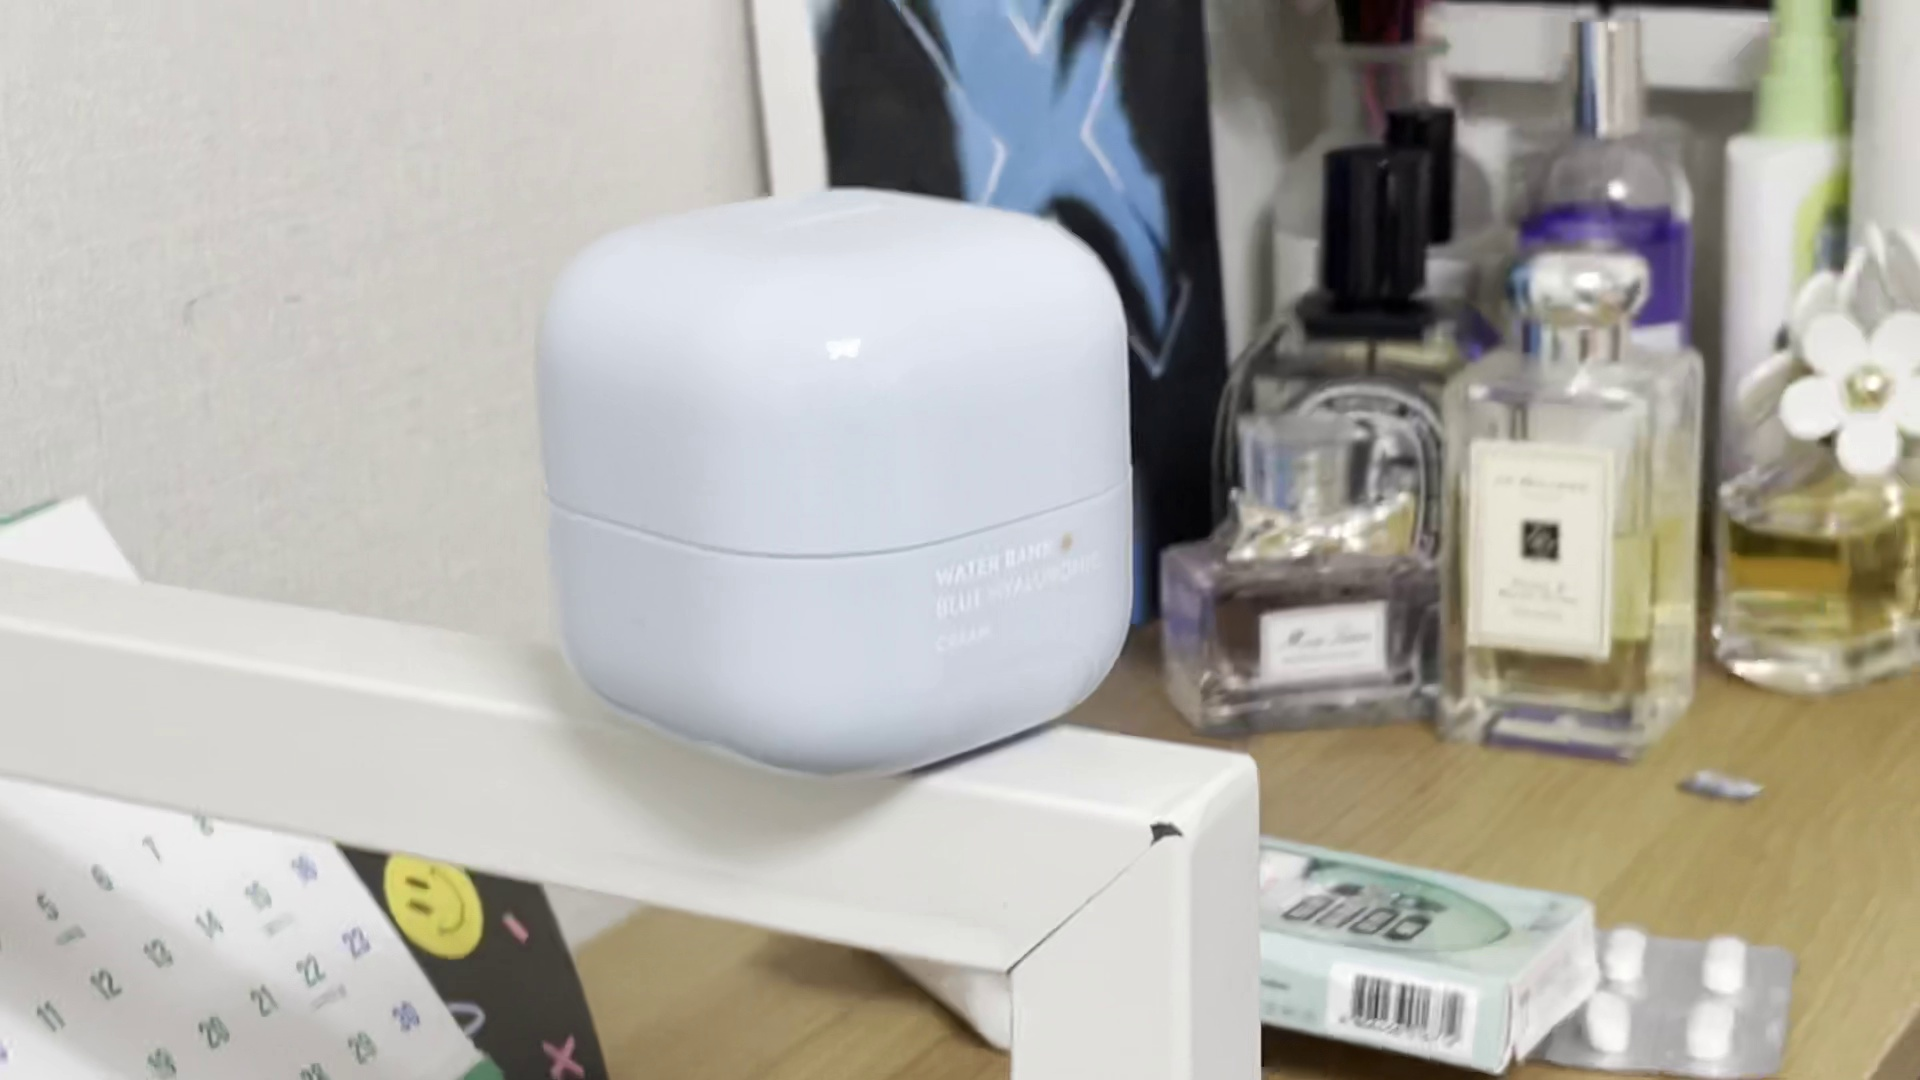cream: (535, 175, 1138, 785)
